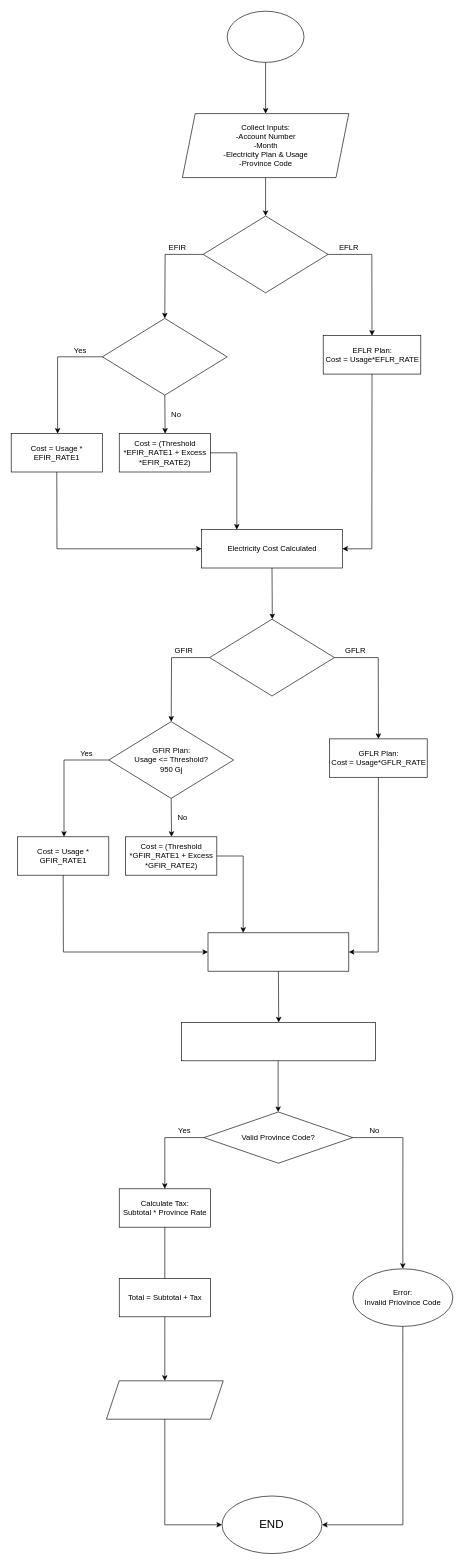
Some shapes in this 464 by 1565 pixel diagram are drawn without their labels. Here are the shapes that lost their labels. From the top down, the centre of each, then its label:
At (265,36): "START".
At (265,254): "Electricity Plan? (EFIR or EFLR)".
At (164,356): "EFIR Plan: Usage <= Threshold? 1000kWh".
At (271,657): "Gas Plan? (GFIR or GFLR)".
At (278,951): "Gas Cost Calculated".
At (278,1041): "Subtotal = Electricity Cost + Gast Cost + Monthly Fees".
At (164,1399): "Output Total Amount Due".
